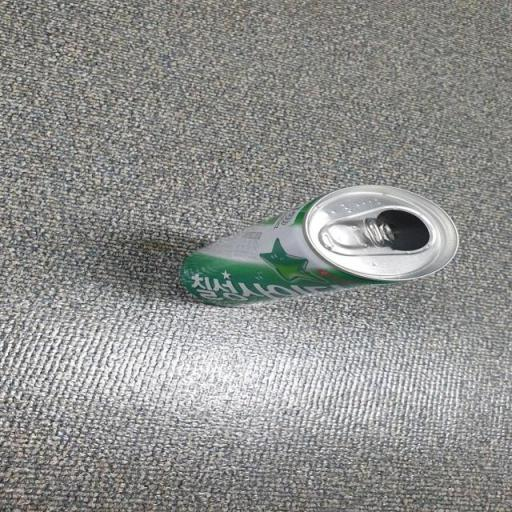metal: (108, 166, 490, 356)
